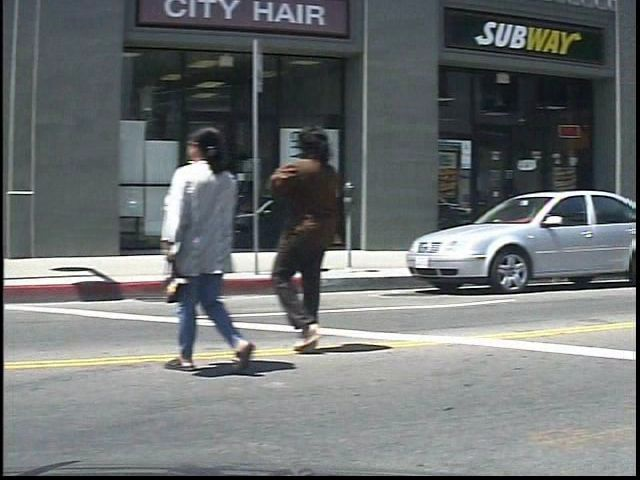person: (172, 121, 277, 374), (274, 119, 356, 354)
